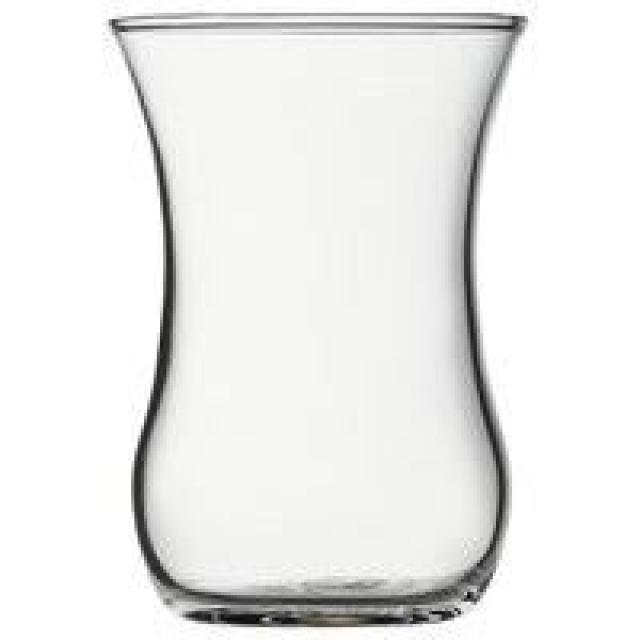glass: (106, 10, 522, 621)
